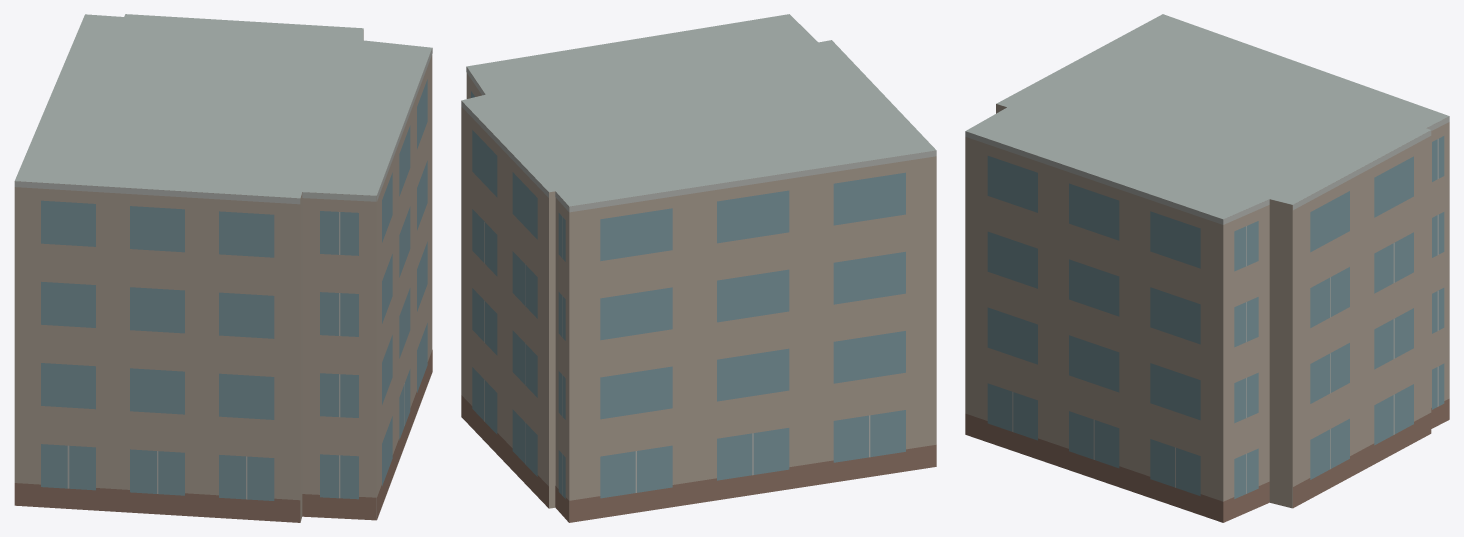
File: survey-upis-32971993.glb
3 views of the same model, side by side, from view 1: azimuth 30°, elevation 25°; view 2: azimuth 150°, elevation 25°; view 3: azimuth 270°, elevation 25° (orthographic). The views are drawn at different scales.
Visible parts, largest first — view 1: survey-upis-32971993.tmp; view 2: survey-upis-32971993.tmp; view 3: survey-upis-32971993.tmp.
Part boxes in pixels (x1=…): survey-upis-32971993.tmp: x1=14, y1=14, x2=432, y2=522; survey-upis-32971993.tmp: x1=461, y1=14, x2=936, y2=522; survey-upis-32971993.tmp: x1=965, y1=14, x2=1449, y2=522.
Size of the model in its own units: 19.16 by 13.2 by 19.1.
